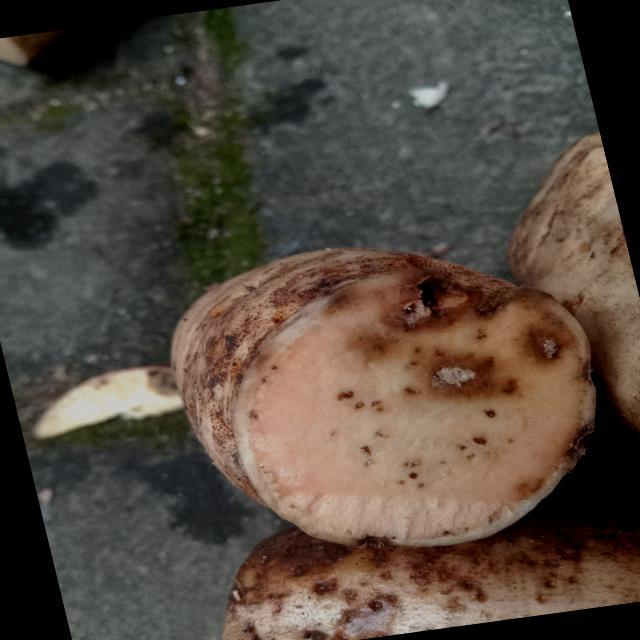Sick Sweet Potato_Tuber Rot: (233, 261, 595, 546)
